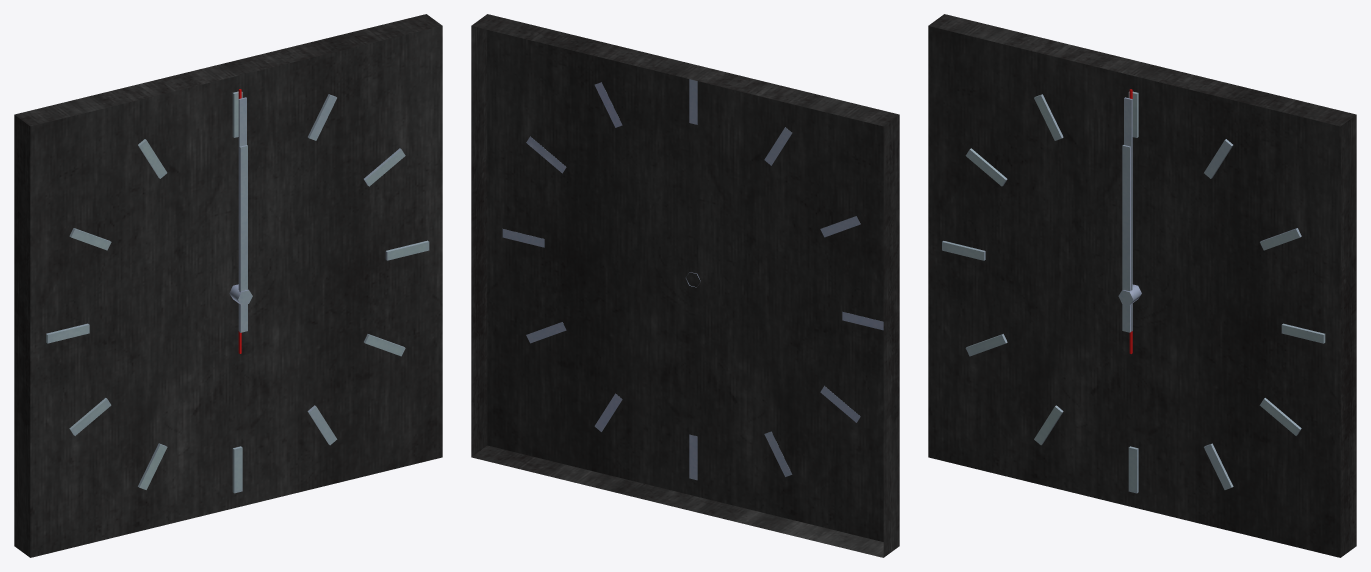
Rendered from Clock_03.fbx.
3 views of the same model, side by side, from view 1: azimuth 30°, elevation 25°; view 2: azimuth 150°, elevation 25°; view 3: azimuth 330°, elevation 25° (orthographic).
Parts seen in each view (by area): view 1: Clock_03, Hours, Minutes; view 2: Clock_03; view 3: Clock_03, Hours, Minutes.
Boxes of the visible parts, box(x1,y1,x2,y2) form: Clock_03: box(14, 14, 442, 557); Hours: box(239, 145, 247, 332); Minutes: box(238, 97, 246, 330); Clock_03: box(471, 14, 899, 557); Clock_03: box(928, 14, 1356, 557); Hours: box(1122, 145, 1130, 332); Minutes: box(1124, 97, 1132, 331).
Size of the model in its own units: 22 by 22 by 2.3.
